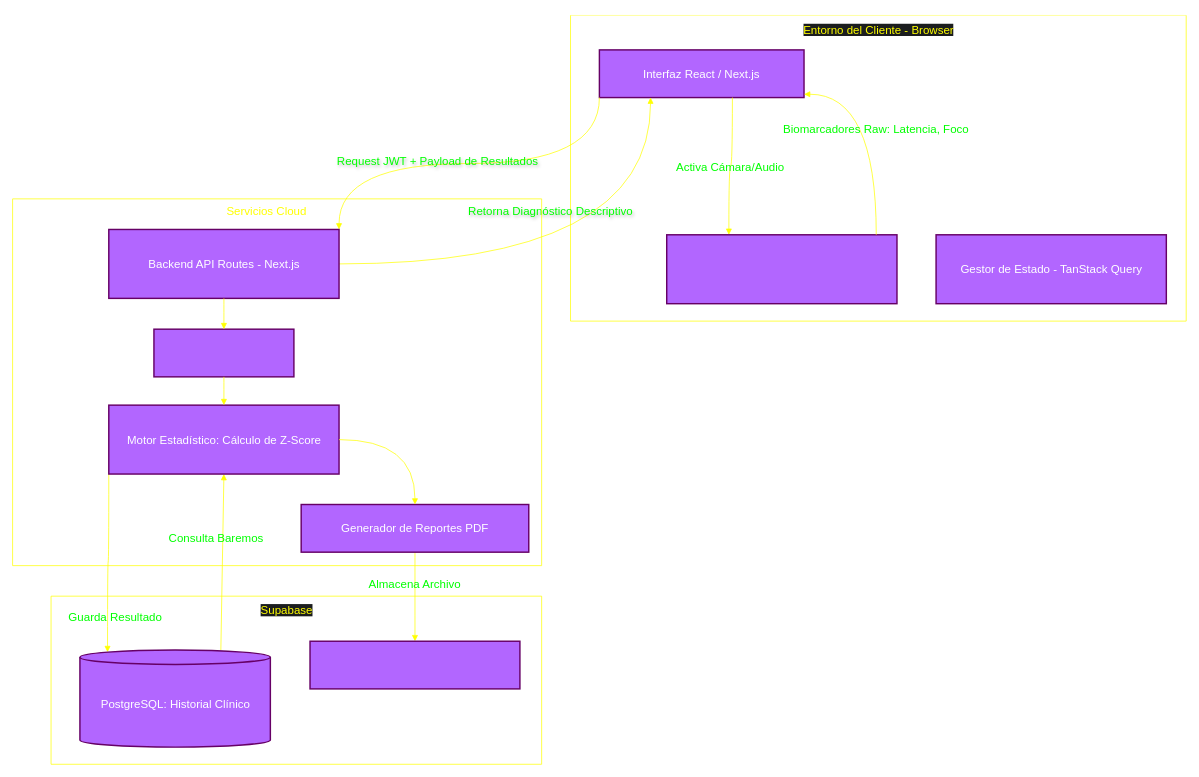
The diagram is 1199 pixels wide and 777 high, and some of its shapes have lost their labels. The shapes that lost their labels are listed below. From the top down, each one's centre as x and y in pixels, then its label:
At point (781, 269): "Motores de IA Local: MediaPipe / TF.js".
At point (223, 352): "Validador Zod".
At point (414, 664): "Storage: PDFs y Baremos".
